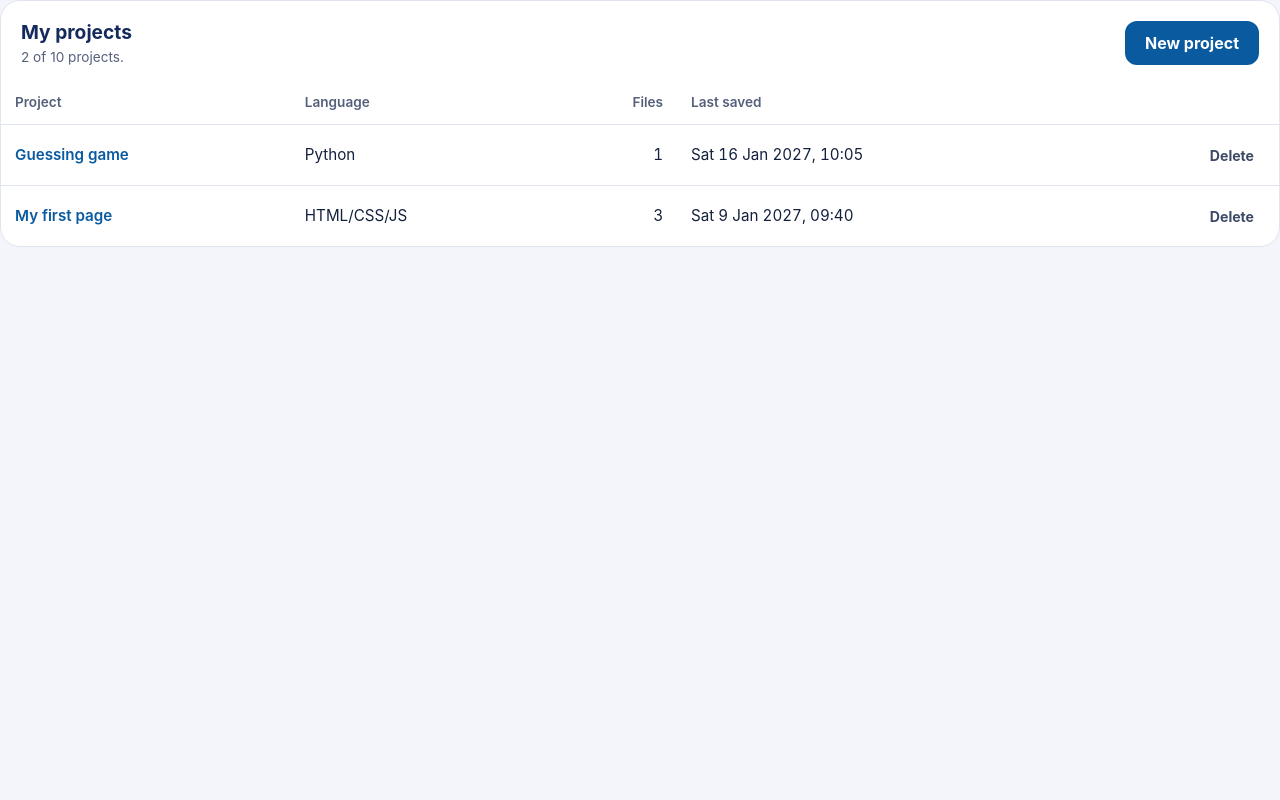
Test: PlaygroundList › starts a project, and says why it couldn’t
Click the button "New project" at [1192, 43], box [1125, 21, 1259, 65]
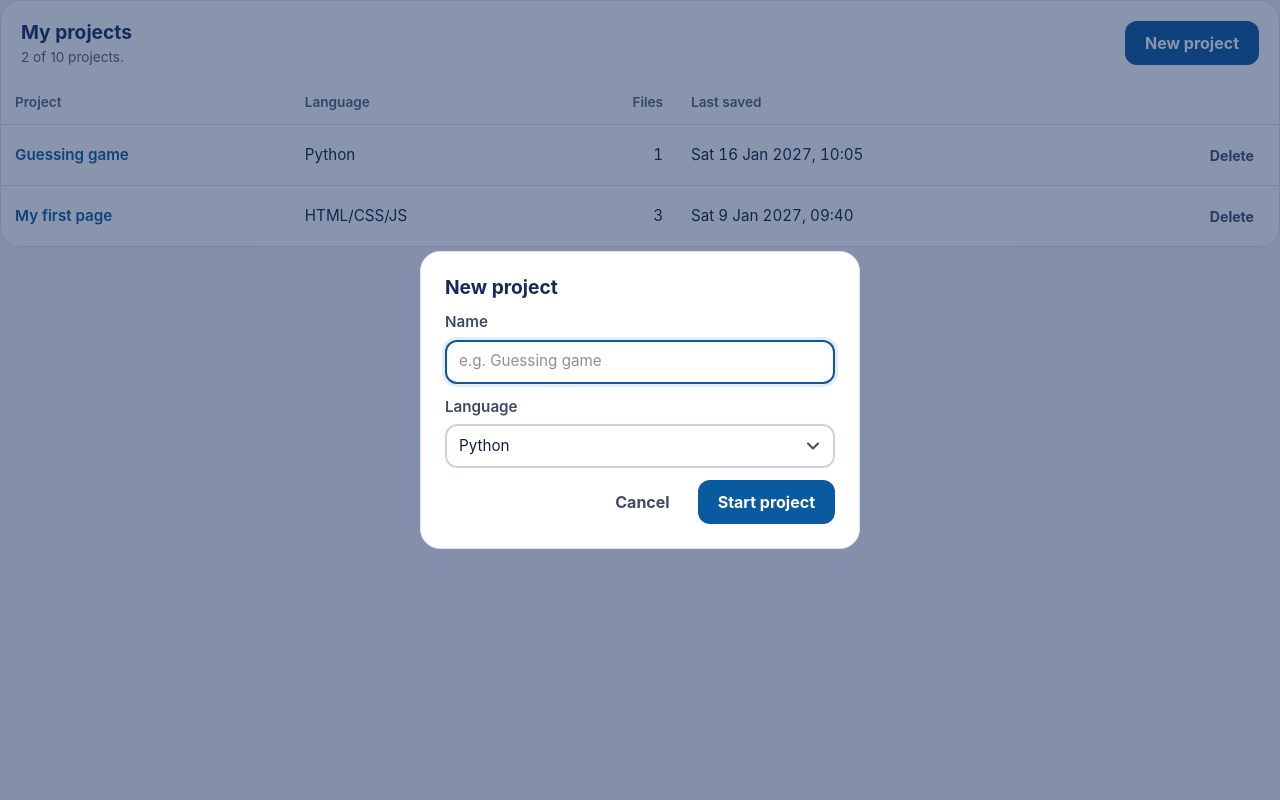
Type "Quiz" into the field labelled "Name" at [640, 362], box [445, 340, 835, 384]
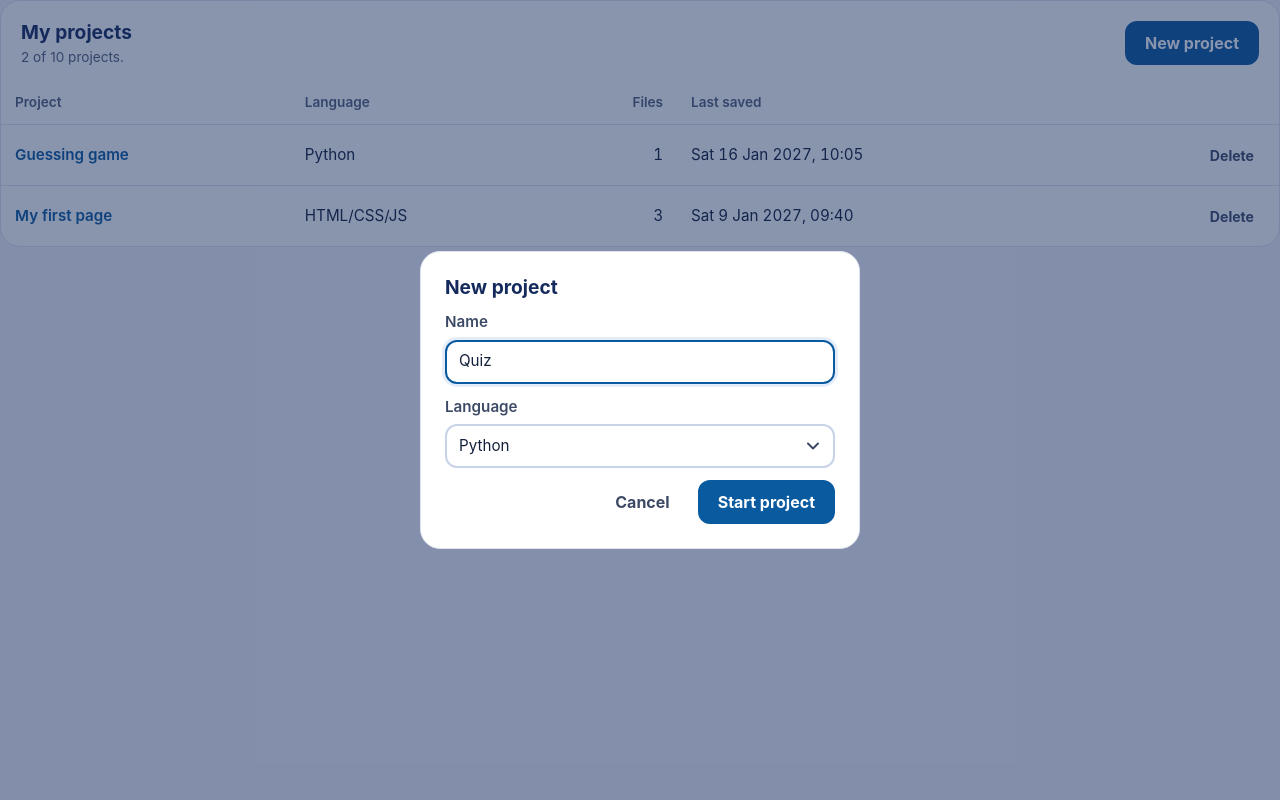
Click the dropdown named "Language" at [484, 445], box [445, 424, 835, 468]
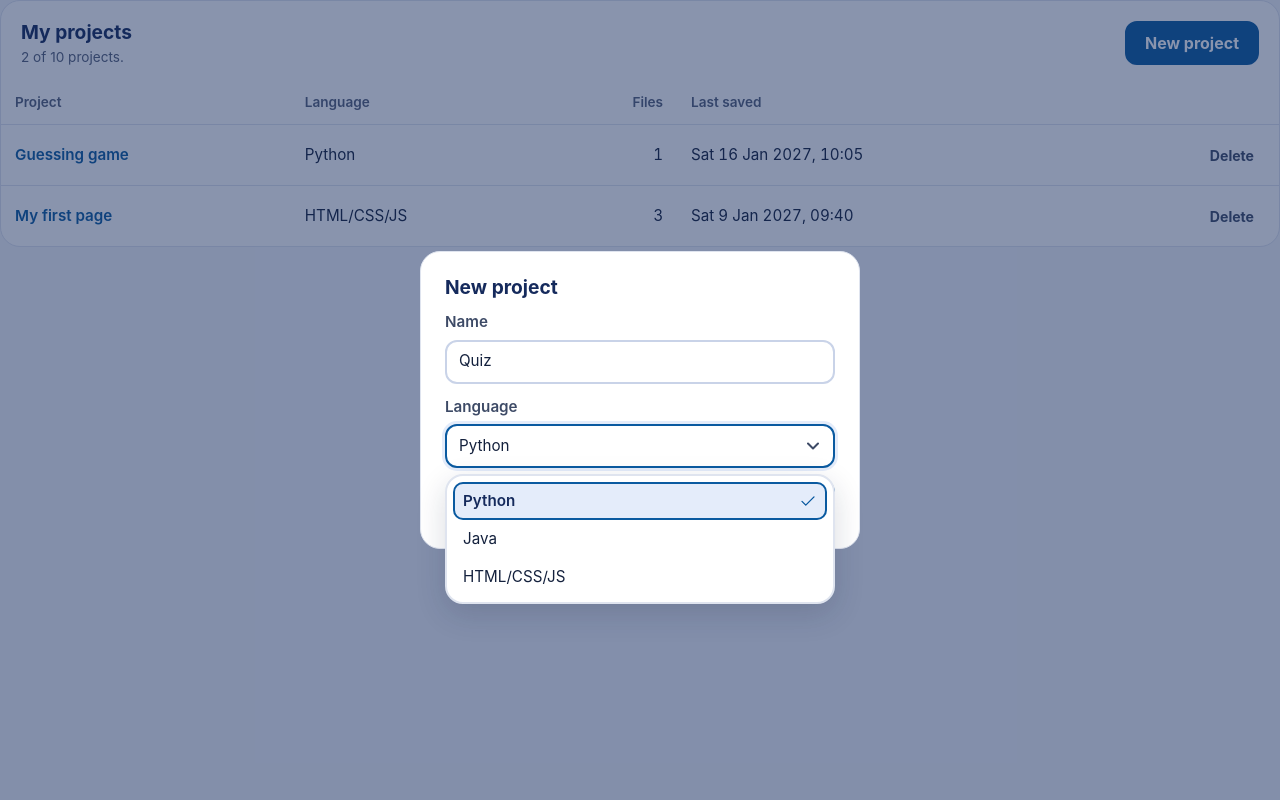
Click the option "HTML/CSS/JS" at [514, 576], box [463, 567, 565, 586]
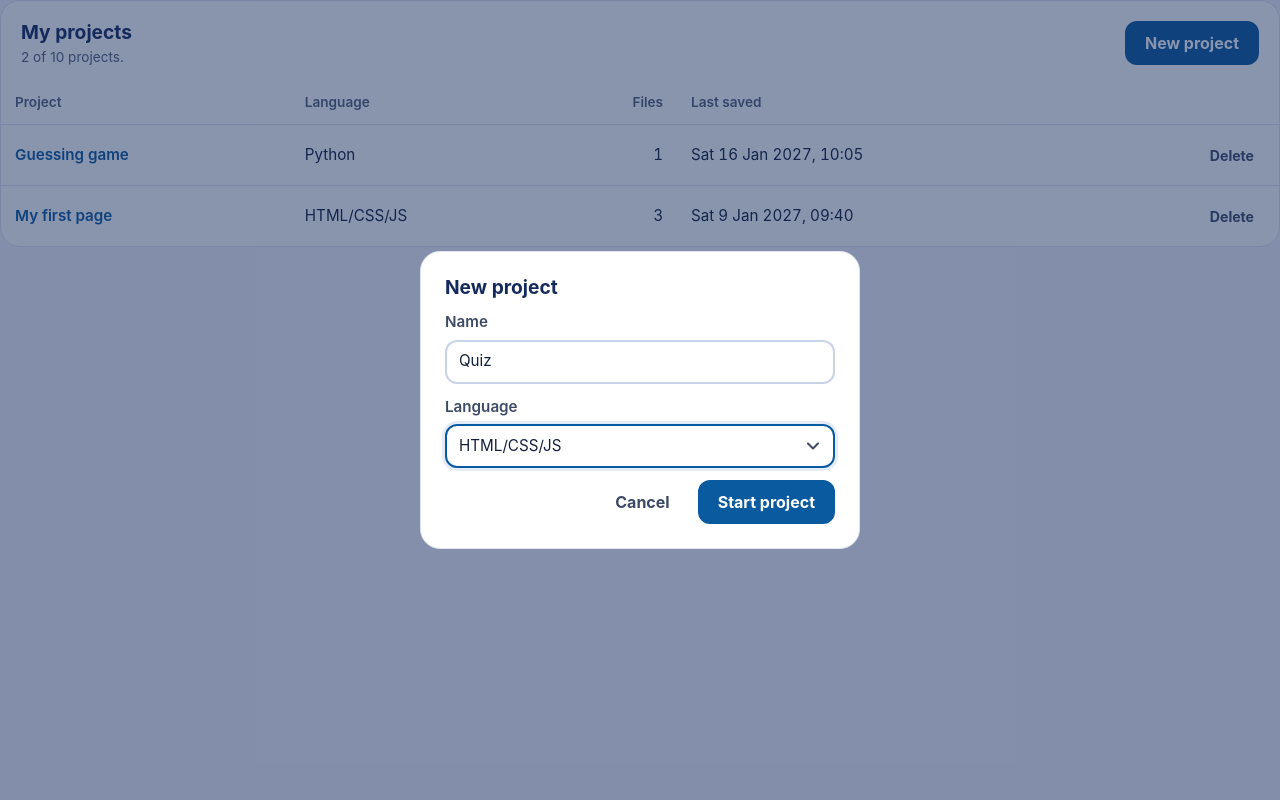
Click the button "Start project" at [766, 502], box [698, 480, 835, 524]
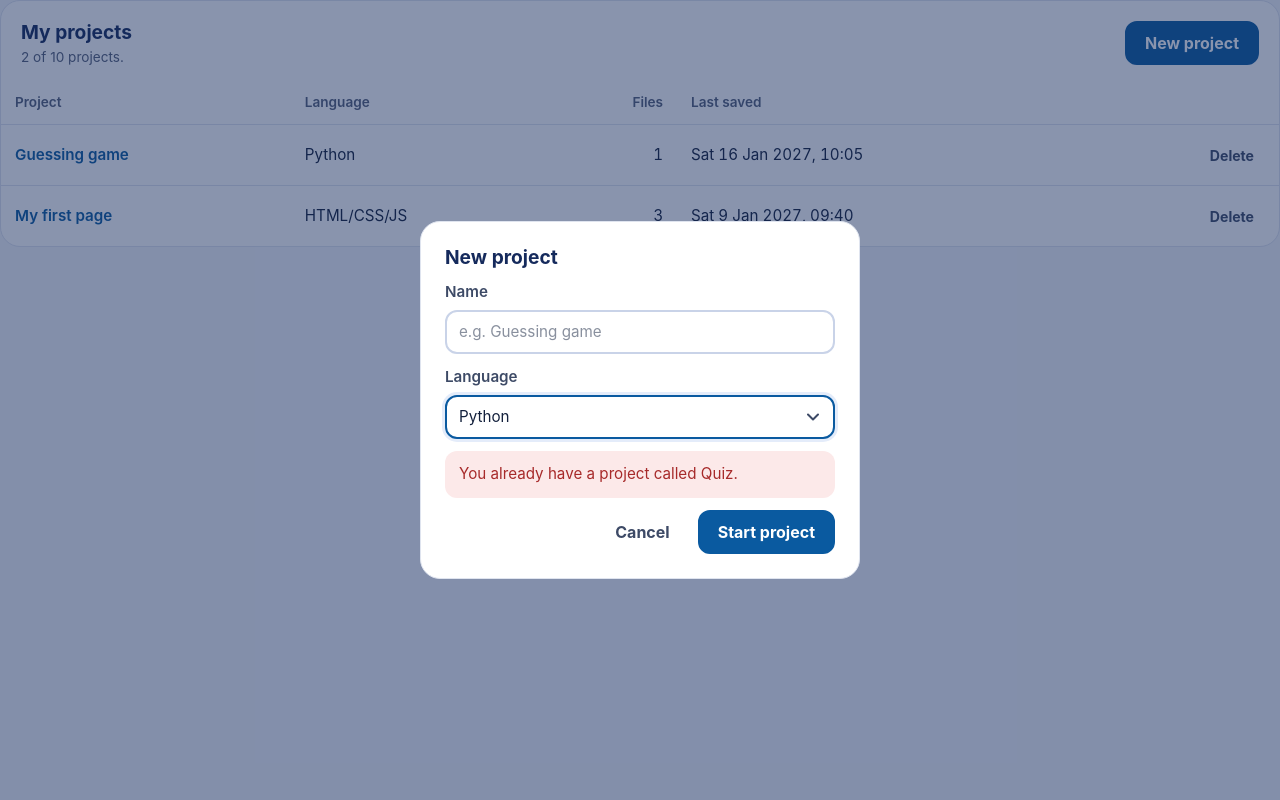
Result: the message reads "You already have a project called Quiz." at [459, 464, 738, 483]
